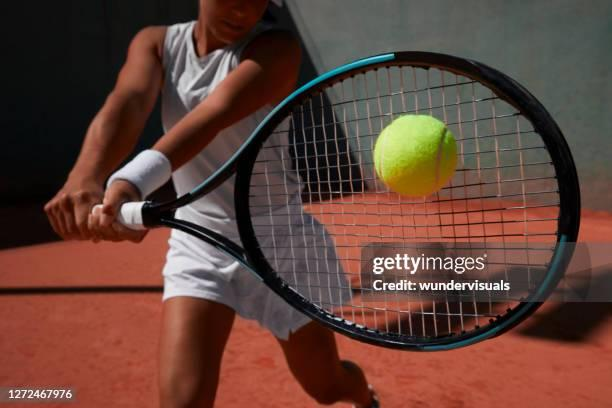ball_tennis: (372, 112, 466, 199)
